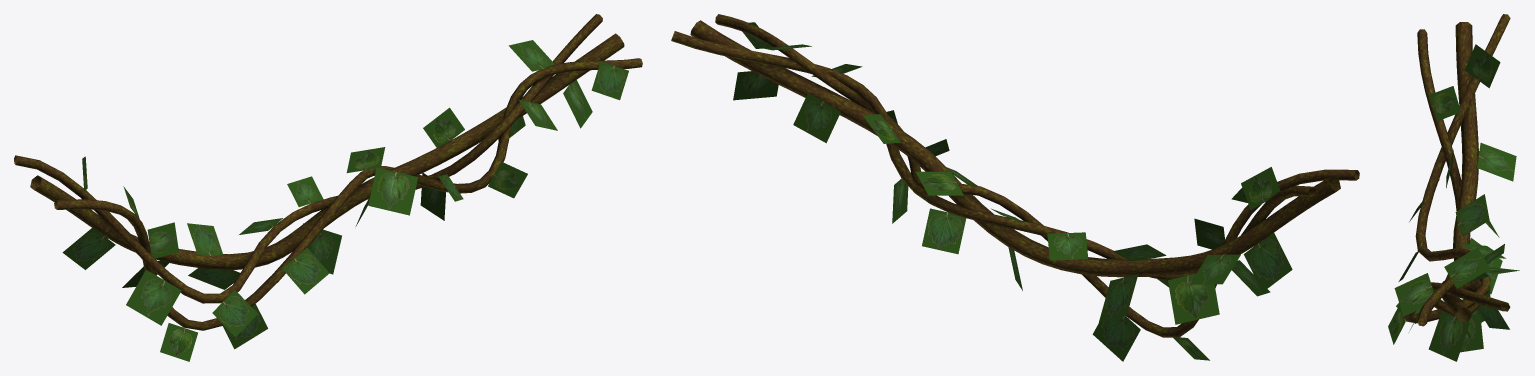
File: sb_obj_nature010_Jungles02f.fbx
3 renders of one model, left to right at view 1: azimuth 30°, elevation 25°; view 2: azimuth 150°, elevation 25°; view 3: azimuth 270°, elevation 25°, orthographic. The views are drawn at different scales.
Visible parts, largest first — view 1: leaf02f, sb_obj_nature010_Jungles02f; view 2: sb_obj_nature010_Jungles02f, leaf02f; view 3: sb_obj_nature010_Jungles02f, leaf02f.
Boxes of the visible parts, x1,y1,x2,y2 form: leaf02f: (62,40,628,361); sb_obj_nature010_Jungles02f: (14,14,642,330); sb_obj_nature010_Jungles02f: (671,14,1359,337); leaf02f: (733,22,1292,361); sb_obj_nature010_Jungles02f: (1404,14,1510,326); leaf02f: (1388,44,1519,361).
Size of the model in its own units: 4.14 by 1.53 by 0.7966.
